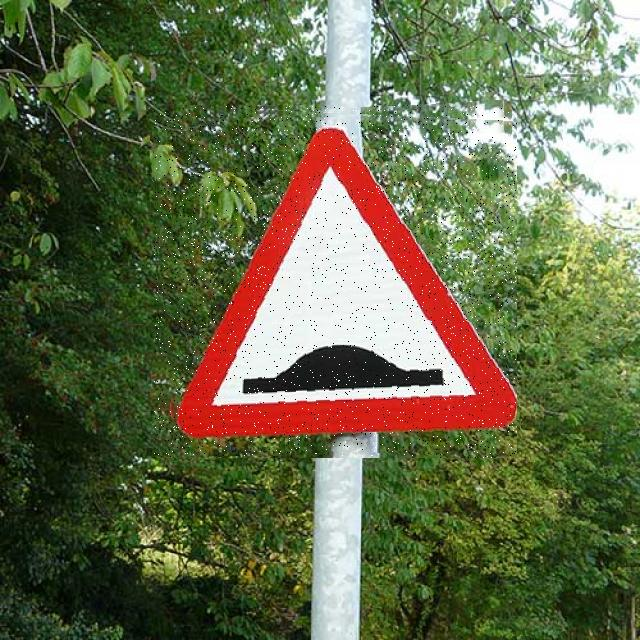hump: (154, 105, 517, 458)
